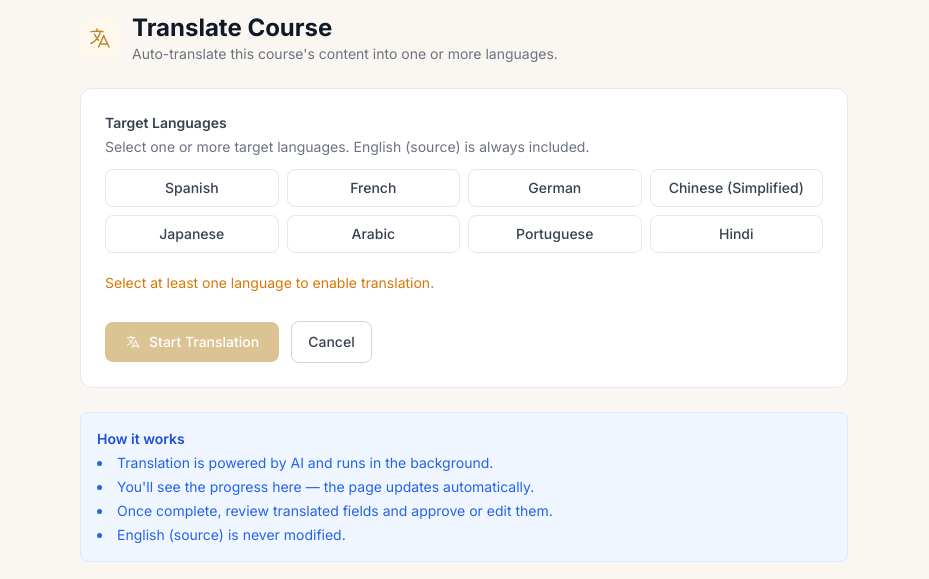
Test case: TranslatePage — submit success › creates a job and navigates to review when submitted
What coordinates should you click on to do the following:
click the button with test id "locale-btn-es"
I would click on:
 (192, 188)
Its box is [105,169,278,207].
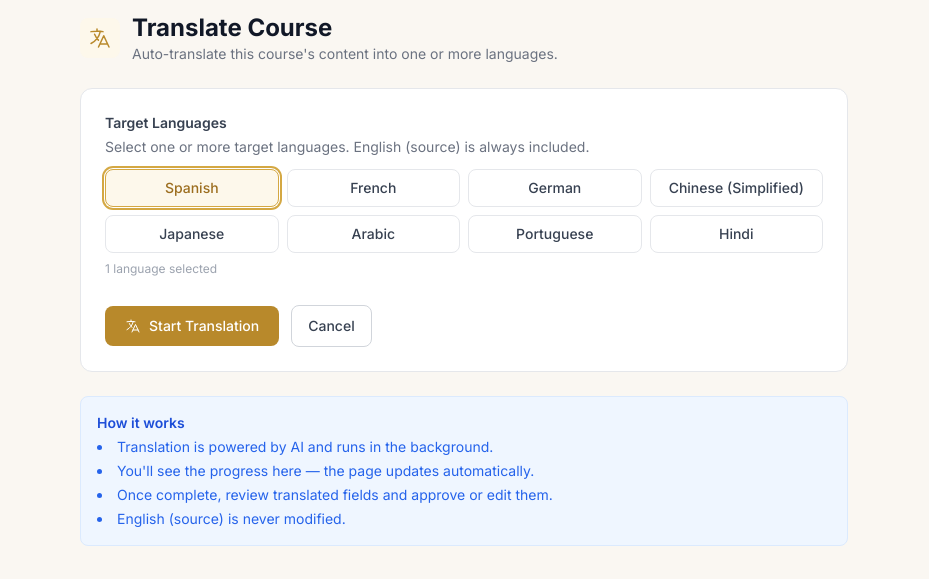
What coordinates should you click on to do the following:
click the button with test id "translate-submit-btn"
I would click on:
 (192, 326)
Its box is [105,306,279,346].
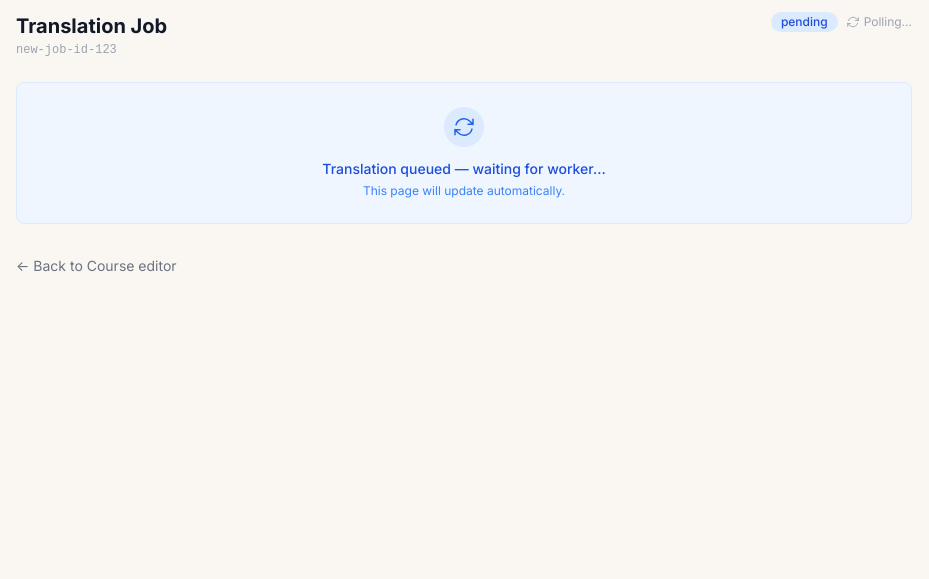
expect the element with test id "translation-pending-banner" is shown: met, box [16,82,912,224]
